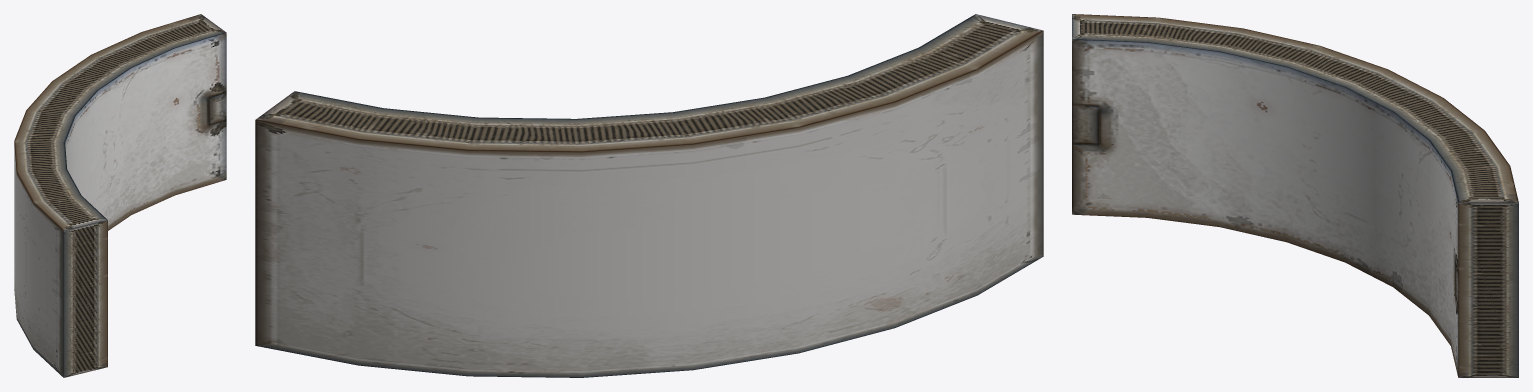
The model's file is scifi_wall_curve2_half_3.FBX.
3 renders of one model, left to right at view 1: azimuth 30°, elevation 25°; view 2: azimuth 150°, elevation 25°; view 3: azimuth 270°, elevation 25°, orthographic. The views are drawn at different scales.
Parts seen in each view (by area): view 1: half014; view 2: half014; view 3: half014.
Part boxes in pixels (left/top/right/bottom): half014: left=14, top=14, right=226, bottom=377; half014: left=255, top=14, right=1043, bottom=377; half014: left=1072, top=14, right=1518, bottom=377.
Size of the model in its own units: 294 by 127 by 294.
